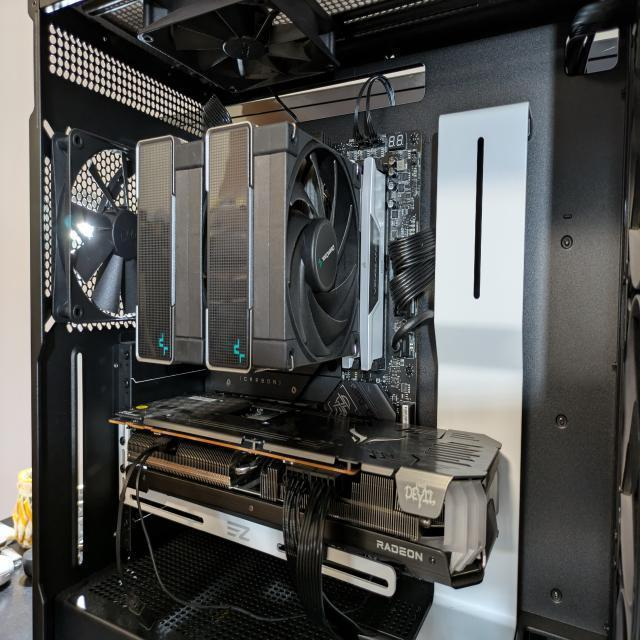CPU_Fan: (136, 120, 360, 377)
RAM: (361, 156, 388, 377)
